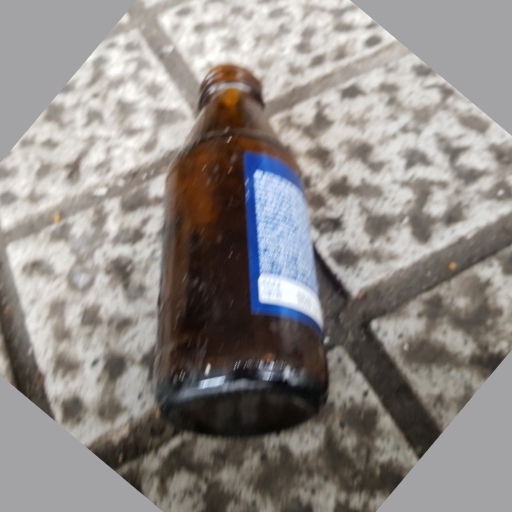Glass_3: (149, 63, 331, 437)
